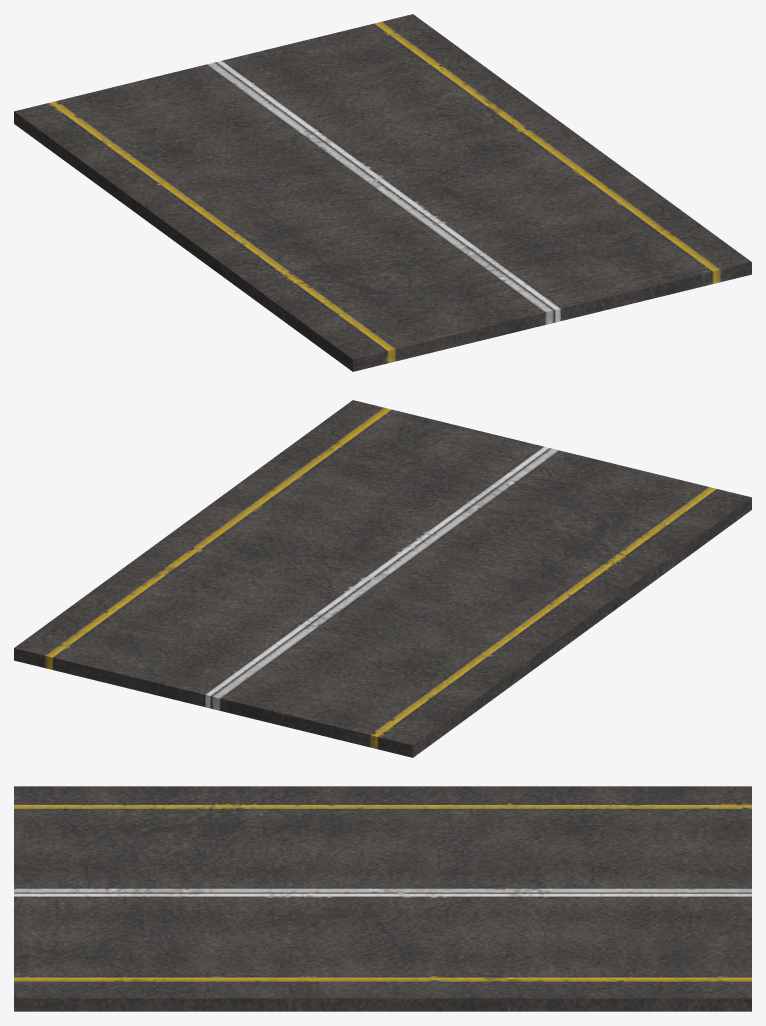
The model's file is Road_02.fbx.
3 renders of one model, top to bottom at view 1: azimuth 30°, elevation 25°; view 2: azimuth 150°, elevation 25°; view 3: azimuth 270°, elevation 25°, orthographic. The views are drawn at different scales.
Parts seen in each view (by area): view 1: Road_02; view 2: Road_02; view 3: Road_02.
Boxes of the visible parts, <box> form: Road_02: <box>14,14,751,371</box>; Road_02: <box>14,400,751,757</box>; Road_02: <box>14,786,751,1011</box>.
Size of the model in its own units: 999 by 29.76 by 1470.
